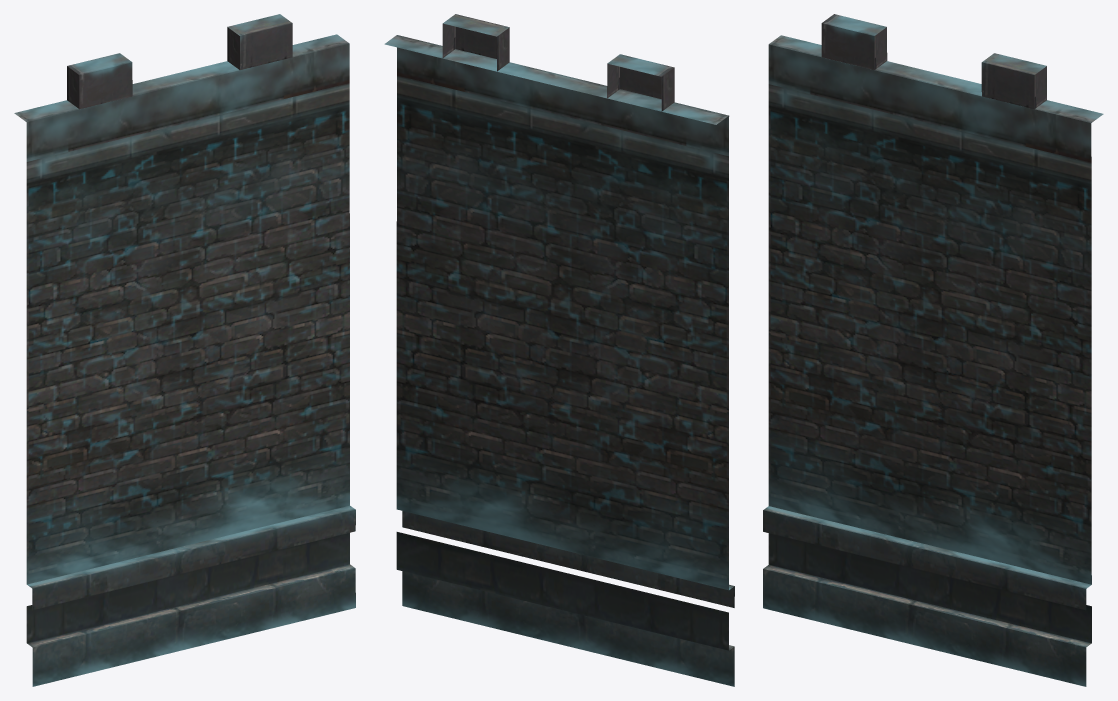
File: chengqiang01.FBX
The picture shows the model from 3 angles, left to right: view 1: azimuth 30°, elevation 25°; view 2: azimuth 150°, elevation 25°; view 3: azimuth 330°, elevation 25°; orthographic projection. The views are drawn at different scales.
Visible parts, largest first — view 1: s7_city_new_chengqiang002; view 2: s7_city_new_chengqiang002; view 3: s7_city_new_chengqiang002.
Part boxes in pixels (x1,y1,x2,y2): s7_city_new_chengqiang002: (14, 14, 355, 686); s7_city_new_chengqiang002: (384, 14, 734, 686); s7_city_new_chengqiang002: (763, 14, 1103, 686).
Bounding box in the file's own units: 6.95 × 12.2 × 0.686.
